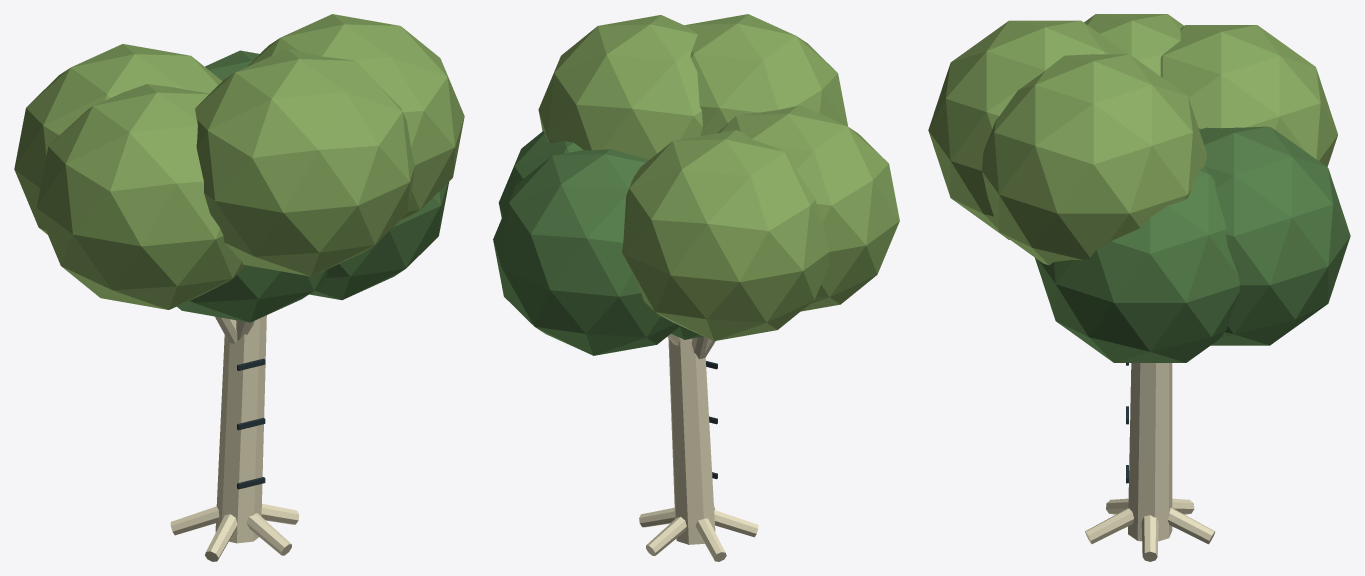
File: tree_birch.glb
The picture shows the model from 3 angles, left to right: view 1: azimuth 30°, elevation 25°; view 2: azimuth 150°, elevation 25°; view 3: azimuth 270°, elevation 25°; orthographic projection. The views are drawn at different scales.
Visible parts, largest first — view 1: Geometry; view 2: Geometry; view 3: Geometry.
Boxes of the visible parts, bbox=[...] form: Geometry: bbox=[14, 14, 464, 561]; Geometry: bbox=[493, 14, 899, 561]; Geometry: bbox=[928, 14, 1350, 561].
Size of the model in its own units: 2.74 by 3.48 by 2.6.
